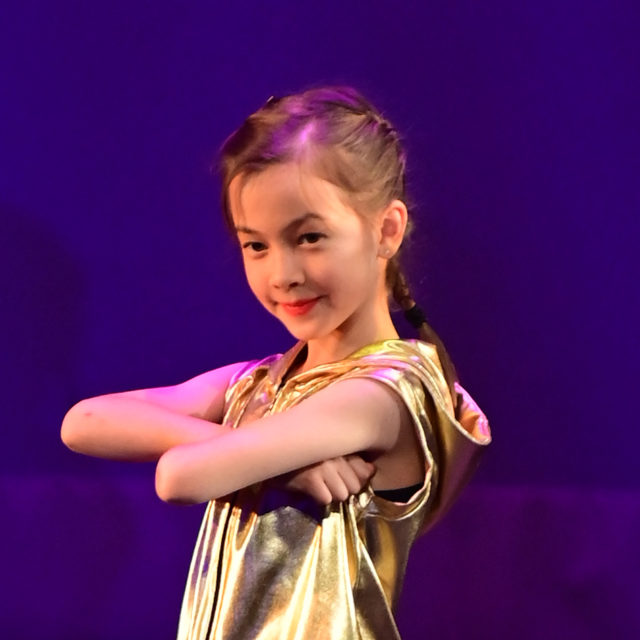human: (218, 99, 408, 335)
